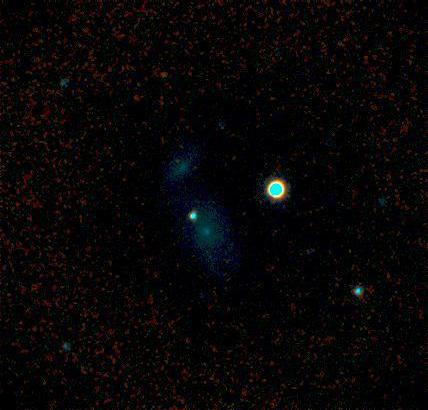star: (151, 61, 181, 91)
